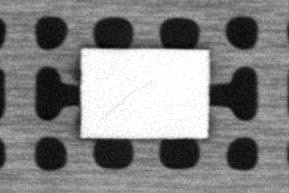DIE_CRACK: (99, 80, 153, 118)
